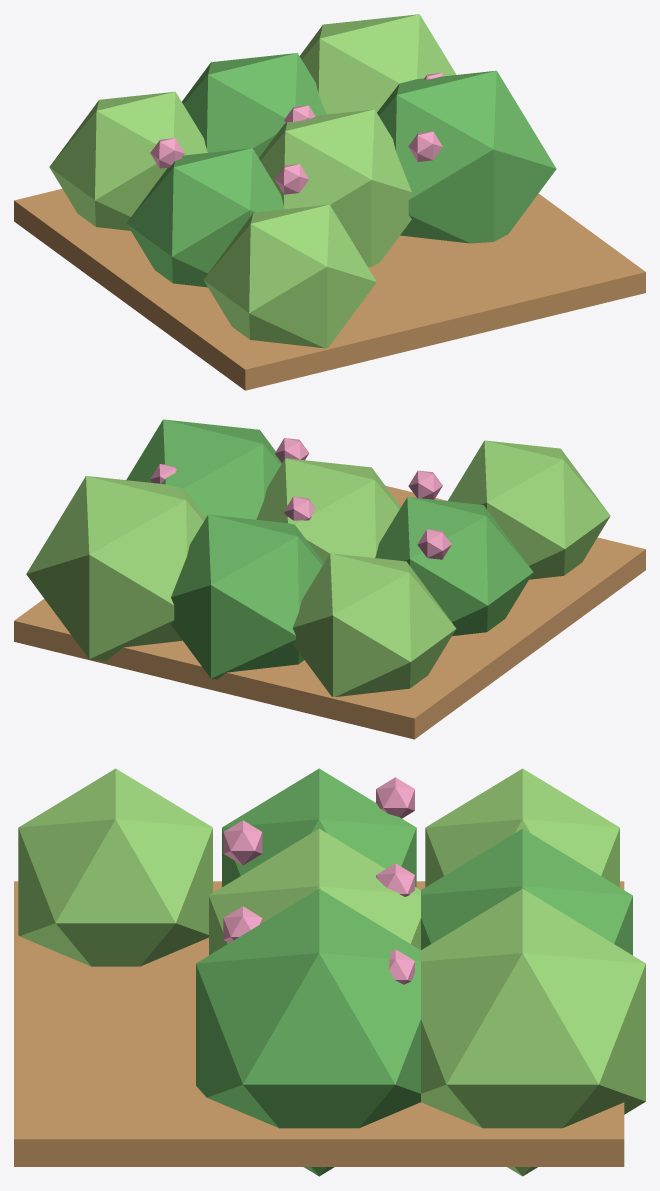
Rendered from roofMoss.glb.
3 renders of one model, top to bottom at view 1: azimuth 30°, elevation 25°; view 2: azimuth 150°, elevation 25°; view 3: azimuth 270°, elevation 25°, orthographic. The views are drawn at different scales.
Bounding box in the file's own units: 2.4 × 0.9697 × 2.48.
